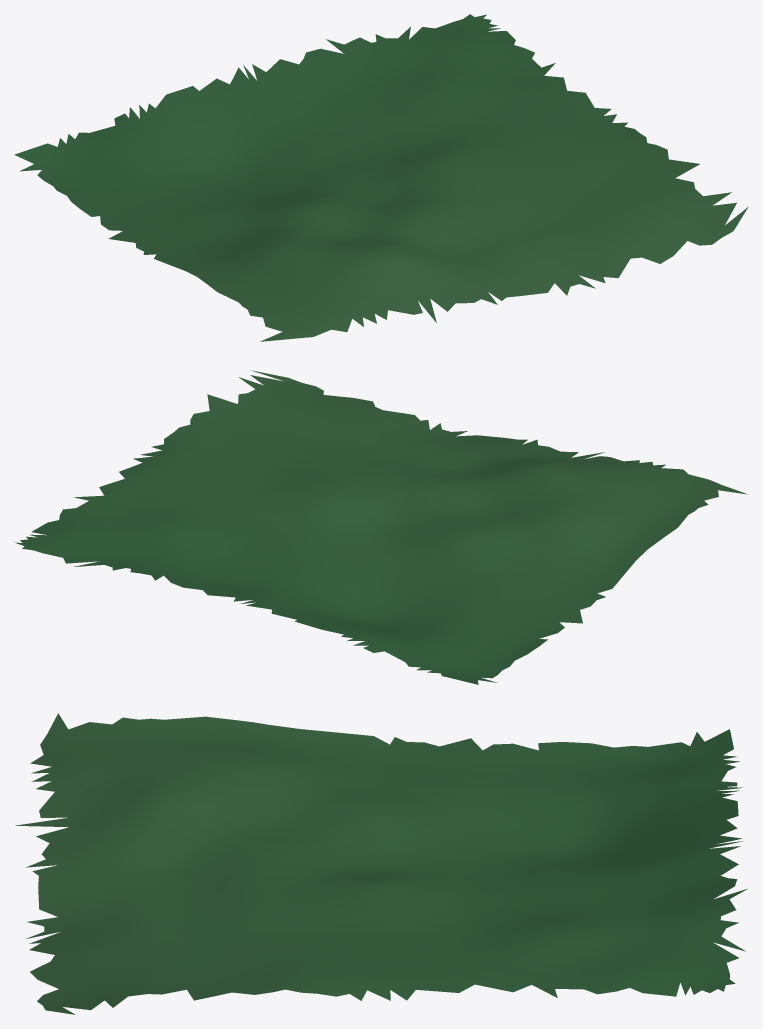
Rendered from payo_land_x1_y7.glb.
The picture shows the model from 3 angles, top to bottom: view 1: azimuth 30°, elevation 25°; view 2: azimuth 150°, elevation 25°; view 3: azimuth 270°, elevation 25°; orthographic projection. The views are drawn at different scales.
Parts seen in each view (by area): view 1: payo_land_x1_y7; view 2: payo_land_x1_y7; view 3: payo_land_x1_y7.
Part boxes in pixels (x1=…): payo_land_x1_y7: x1=14, y1=14, x2=748, y2=341; payo_land_x1_y7: x1=14, y1=370, x2=748, y2=684; payo_land_x1_y7: x1=15, y1=713, x2=747, y2=1014.
Bounding box in the file's own units: 276 × 25.08 × 273.
